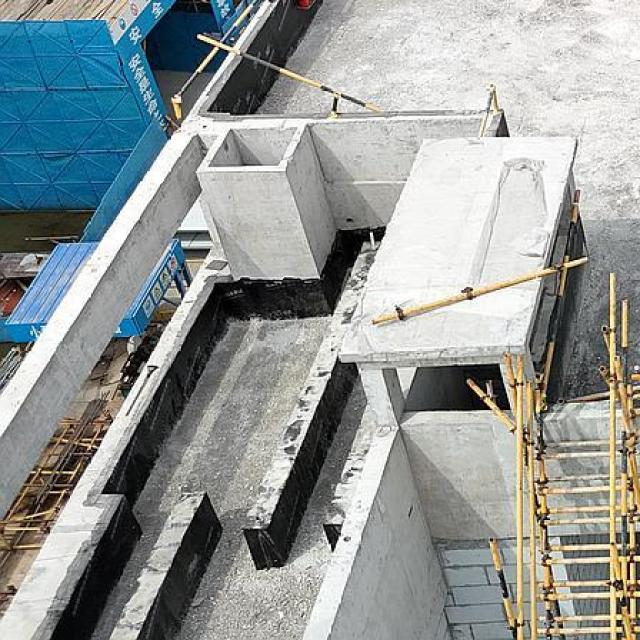edge_guardrail: (370, 255, 590, 326), (194, 32, 382, 115), (170, 0, 266, 120), (478, 83, 499, 138)
